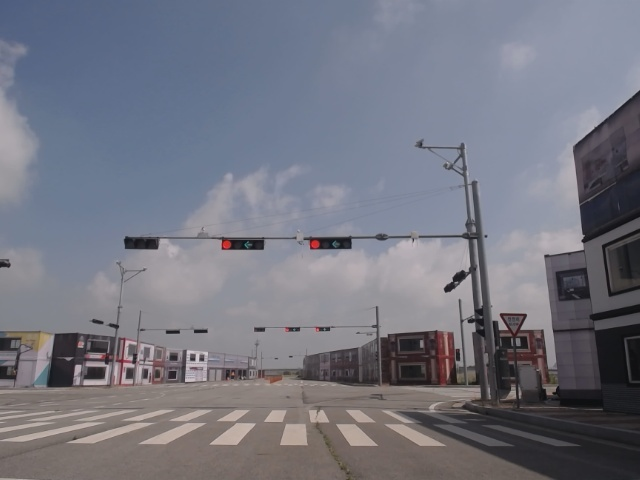left_green_4: (221, 238, 264, 250), (310, 237, 352, 249)
